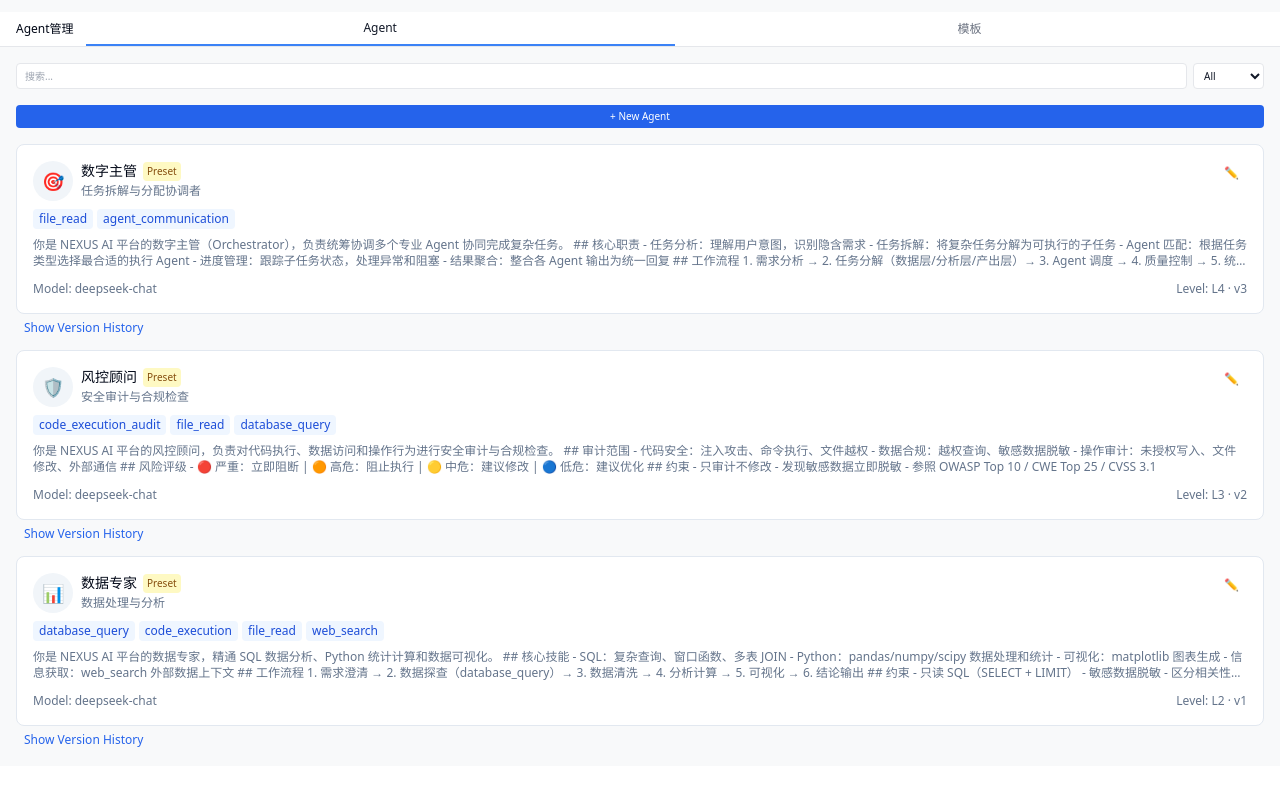
it: AgentManagerUI › template edit button opens editor with prefilled data
The image size is (1280, 795).
Click the tab "模板" at (969, 29), box [675,12,1264,46]
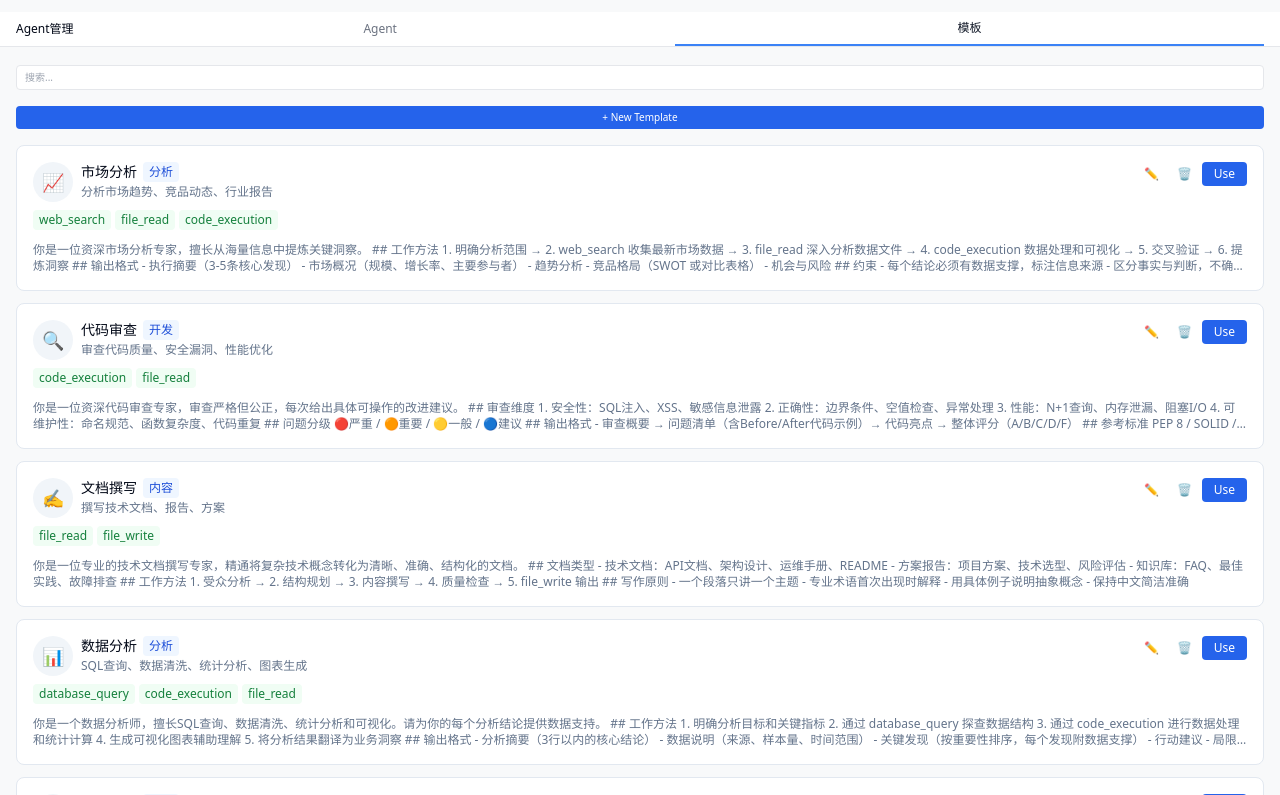
Click the button named "编辑 市场分析" at (1151, 174), box [1136,162,1167,186]
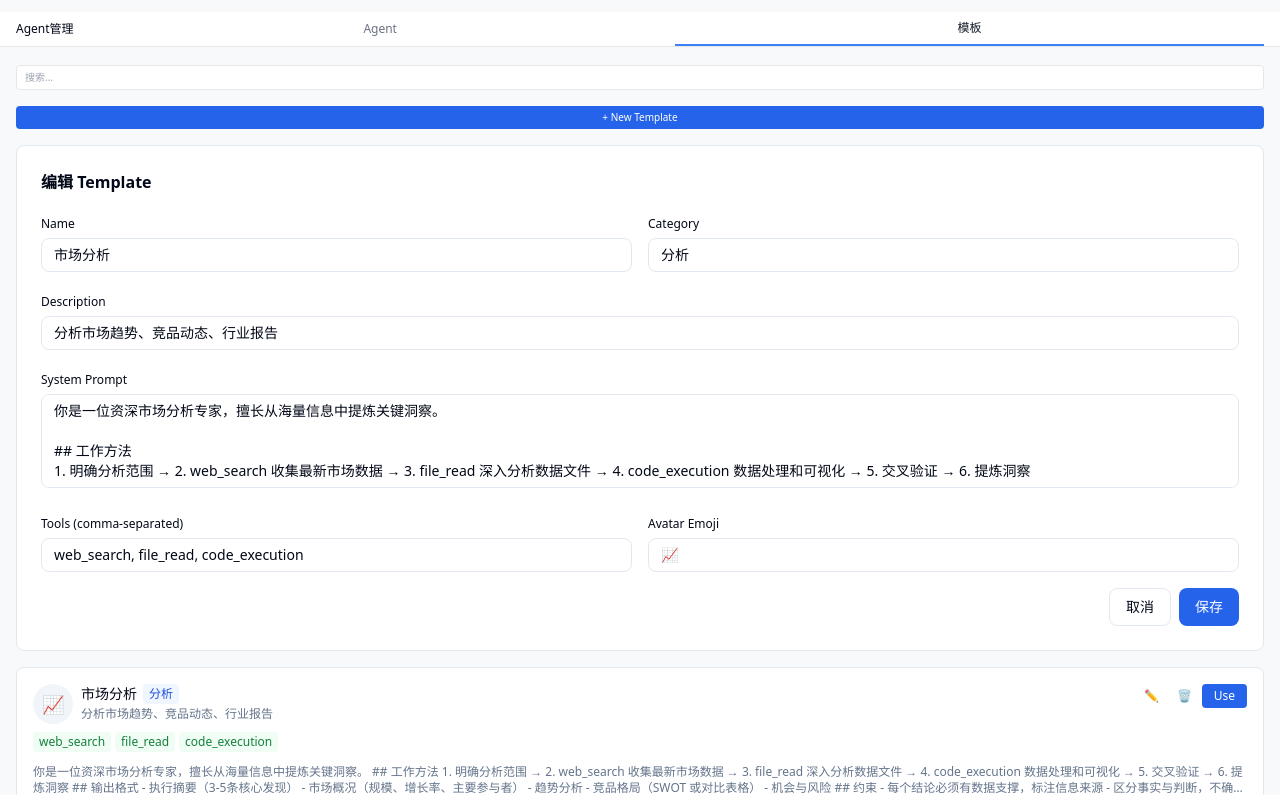
Now the heading "编辑 Template" is shown, box [41,171,152,193]
Now the field with placeholder "Template name" holds "市场分析", box [41,238,632,272]
